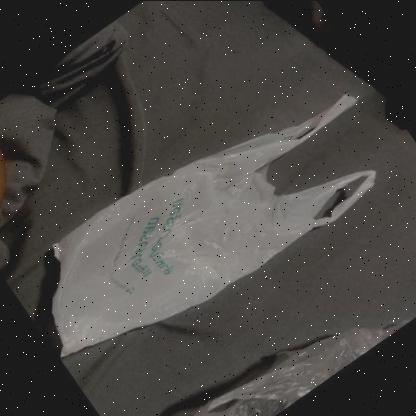Others: (53, 90, 378, 360)
